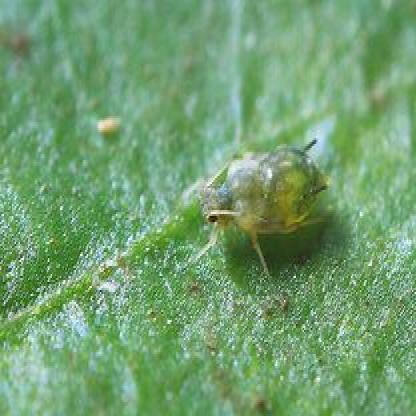aphid: (184, 138, 346, 269)
